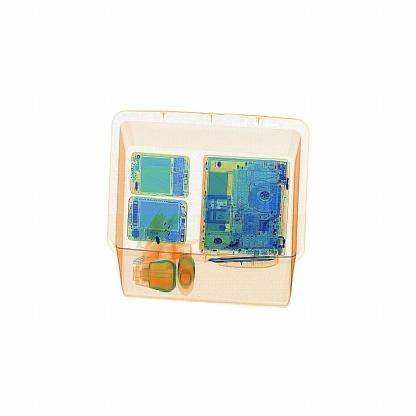pliers: (211, 253, 277, 271)
